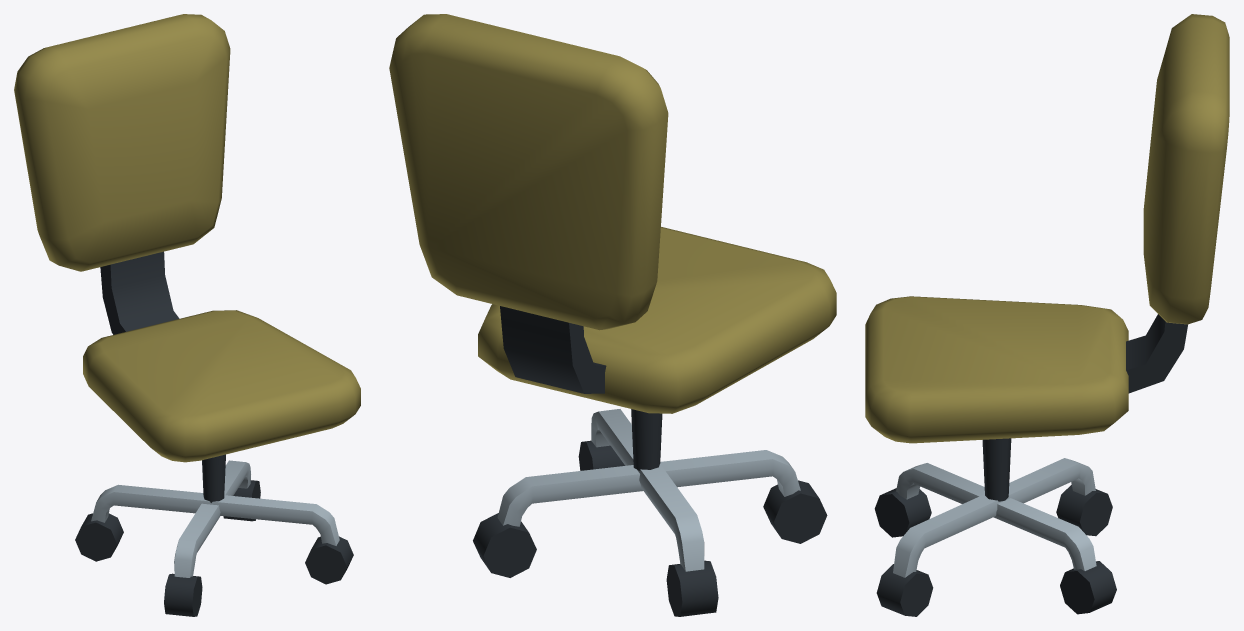
The model's file is Chair-1.fbx.
3 views of the same model, side by side, from view 1: azimuth 30°, elevation 25°; view 2: azimuth 150°, elevation 25°; view 3: azimuth 270°, elevation 25° (orthographic). The views are drawn at different scales.
Parts seen in each view (by area): view 1: Chair-1; view 2: Chair-1; view 3: Chair-1.
Boxes of the visible parts, x1,y1,x2,y2 form: Chair-1: [14, 14, 360, 616]; Chair-1: [389, 14, 836, 616]; Chair-1: [865, 14, 1229, 616].
Bounding box in the file's own units: 66.48 × 144 × 92.03.
